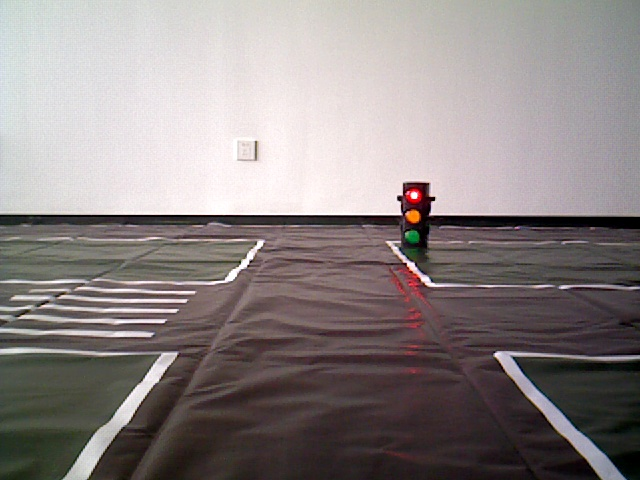red: (403, 183, 425, 246)
